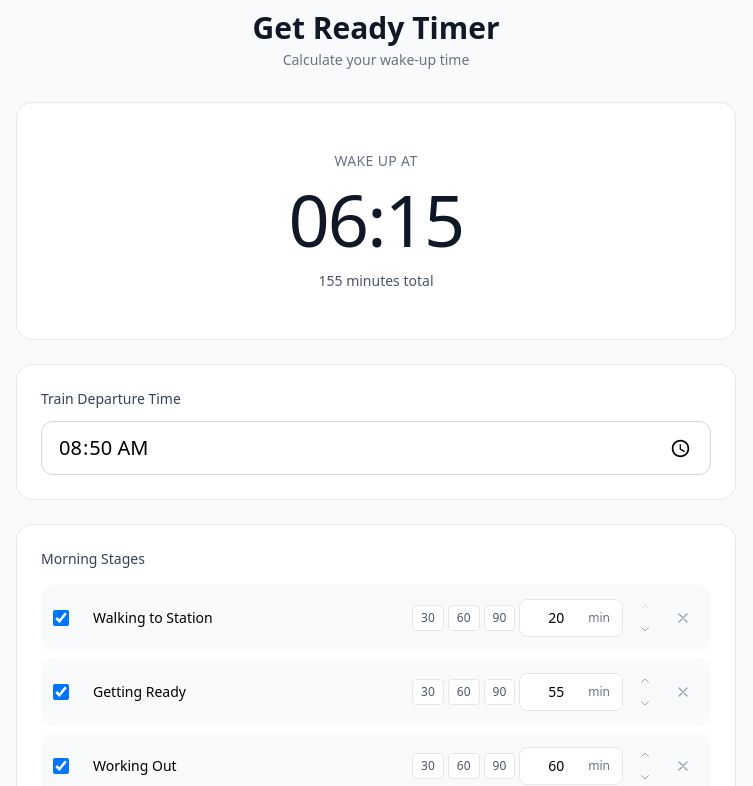
App › allows updating stage duration
Step 1. Replace the text in the 1st number field with "30" → [556, 618], box [532,608,580,628]
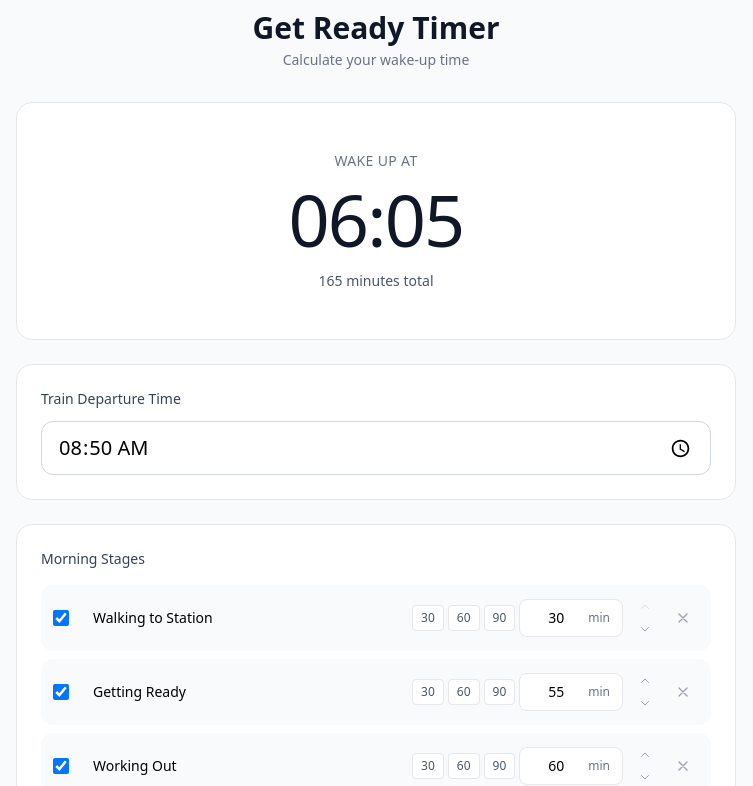
Check: the text "165 minutes total" is shown, box [318,271,434,290]
